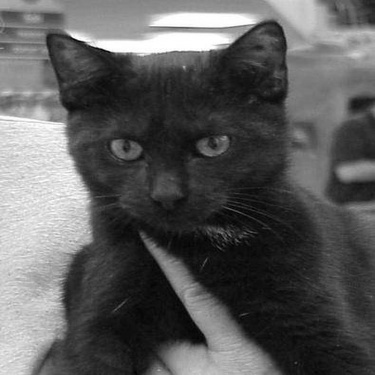cat: (24, 23, 368, 369)
